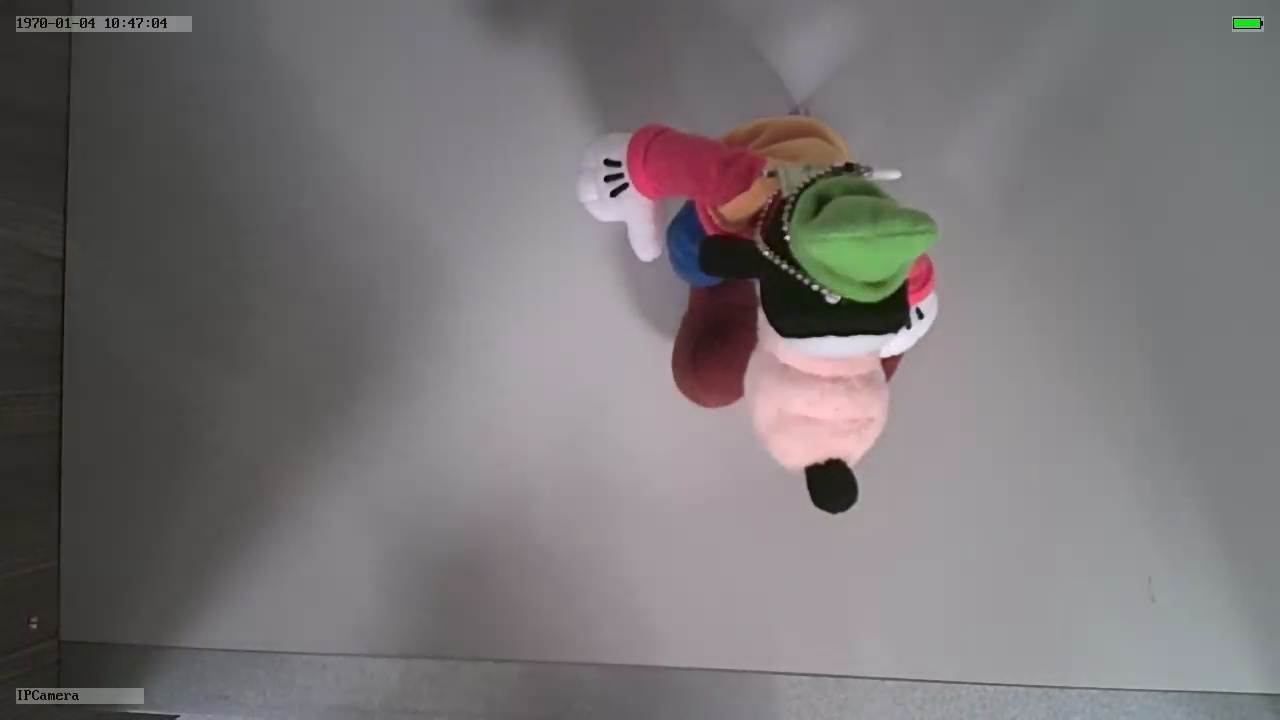goofy: (570, 115, 945, 519)
